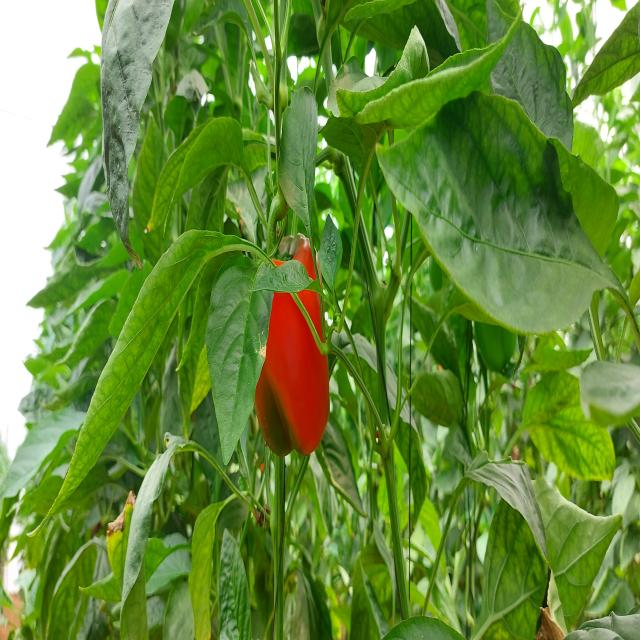Red-Ready-to-Harvest: (237, 246, 338, 454)
